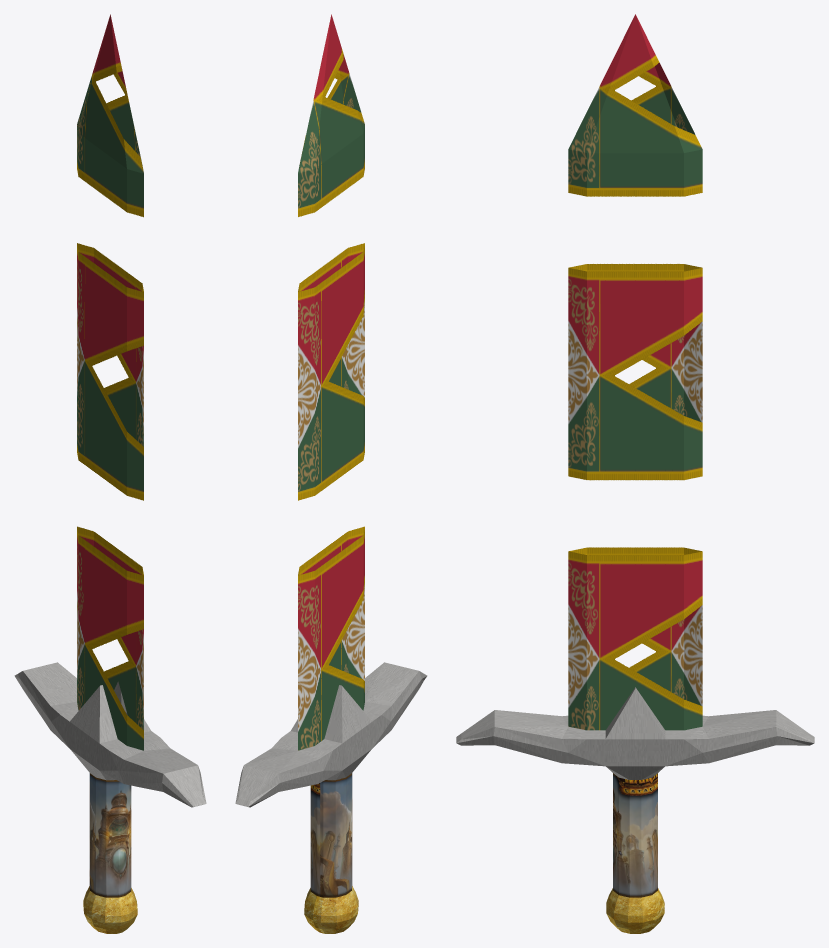
Rendered from EspadaTex.FBX.
The picture shows the model from 3 angles, left to right: view 1: azimuth 30°, elevation 25°; view 2: azimuth 150°, elevation 25°; view 3: azimuth 270°, elevation 25°; orthographic projection.
Parts seen in each view (by area): view 1: Bolita; view 2: Bolita; view 3: Bolita.
Part boxes in pixels (x1,y1,x2,y2): Bolita: (14,14,206,933); Bolita: (235,14,427,933); Bolita: (456,14,814,933).
Size of the model in its own units: 200 by 3371 by 1200.
4 materials, 4 textured.
